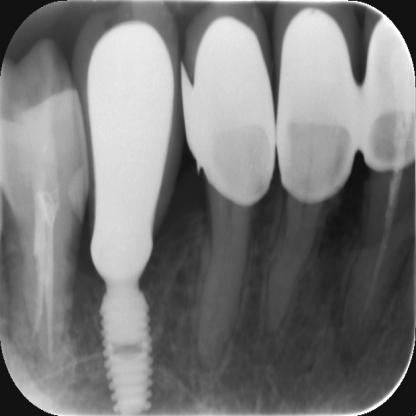Bicon: (79, 282, 185, 414)
